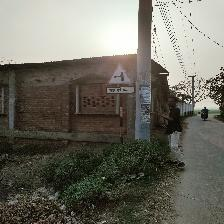Side-road-left: (106, 63, 135, 94)
